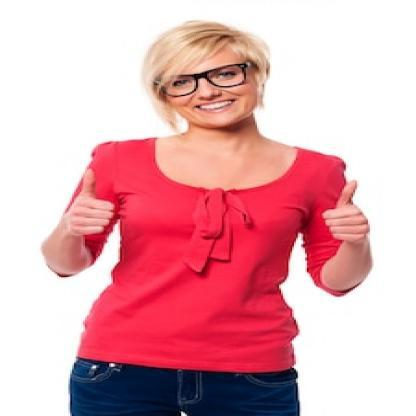thumb_up: (56, 167, 119, 238), (318, 177, 373, 245)
